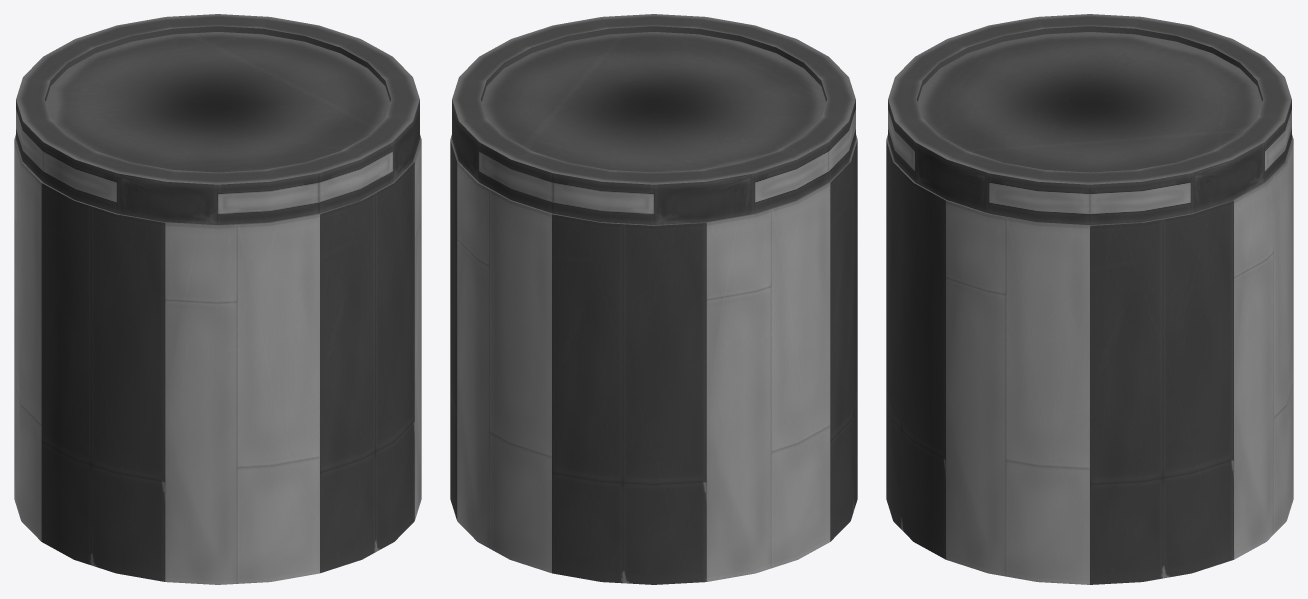
The model's file is LR87_Mod2.dae.
3 views of the same model, side by side, from view 1: azimuth 30°, elevation 25°; view 2: azimuth 150°, elevation 25°; view 3: azimuth 270°, elevation 25° (orthographic).
Parts seen in each view (by area): view 1: fairing, LR_87_Titan7_pCube35; view 2: fairing, LR_87_Titan7_pCube35; view 3: fairing, LR_87_Titan7_pCube35.
Boxes of the visible parts, box(x1,y1,x2,y2) form: fairing: box(14, 135, 421, 584); LR_87_Titan7_pCube35: box(16, 14, 419, 224); fairing: box(450, 135, 857, 584); LR_87_Titan7_pCube35: box(452, 14, 855, 224); fairing: box(886, 135, 1293, 584); LR_87_Titan7_pCube35: box(888, 14, 1291, 224).
Size of the model in its own units: 1.89 by 2.06 by 1.89.
